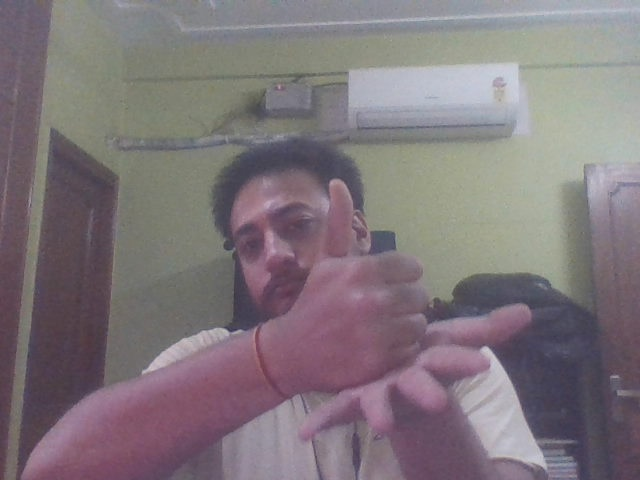Help: (264, 180, 539, 453)
